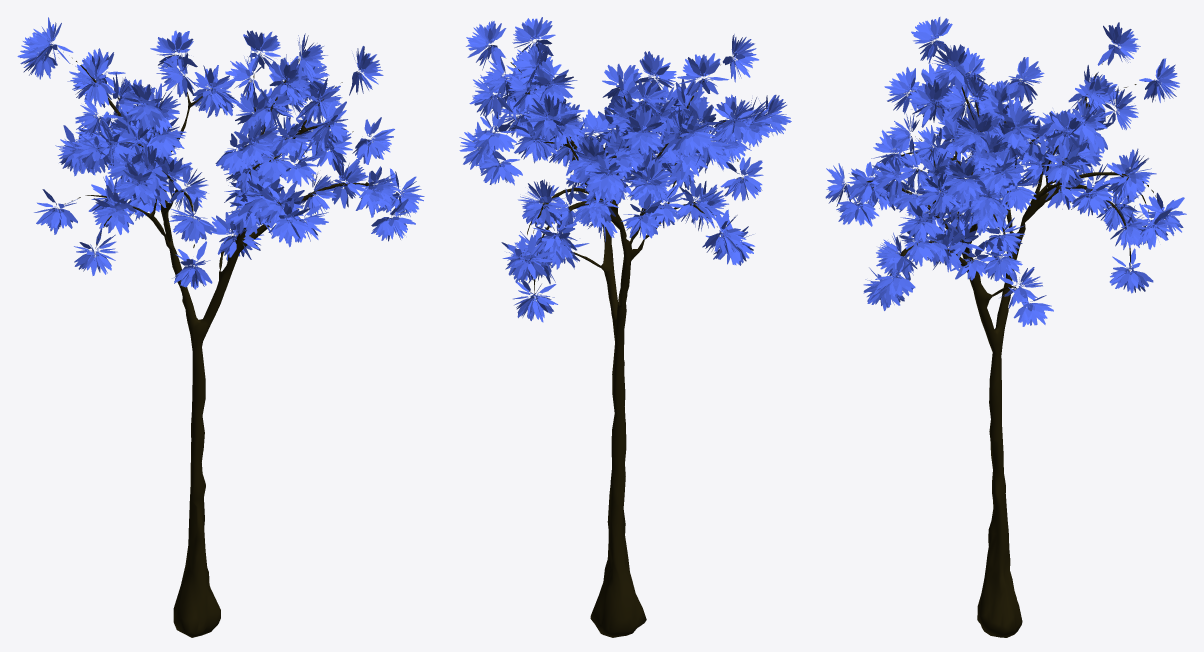
Rendered from talltree.fbx.
The picture shows the model from 3 angles, left to right: view 1: azimuth 30°, elevation 25°; view 2: azimuth 150°, elevation 25°; view 3: azimuth 270°, elevation 25°; orthographic projection. The views are drawn at different scales.
Parts seen in each view (by area): view 1: leaves; view 2: leaves; view 3: leaves.
Boxes of the visible parts, box(x1,y1,x2,y2) form: leaves: box(17, 17, 424, 637); leaves: box(459, 17, 791, 637); leaves: box(825, 17, 1186, 637).
Size of the model in its own units: 1362 by 2430 by 1396.
